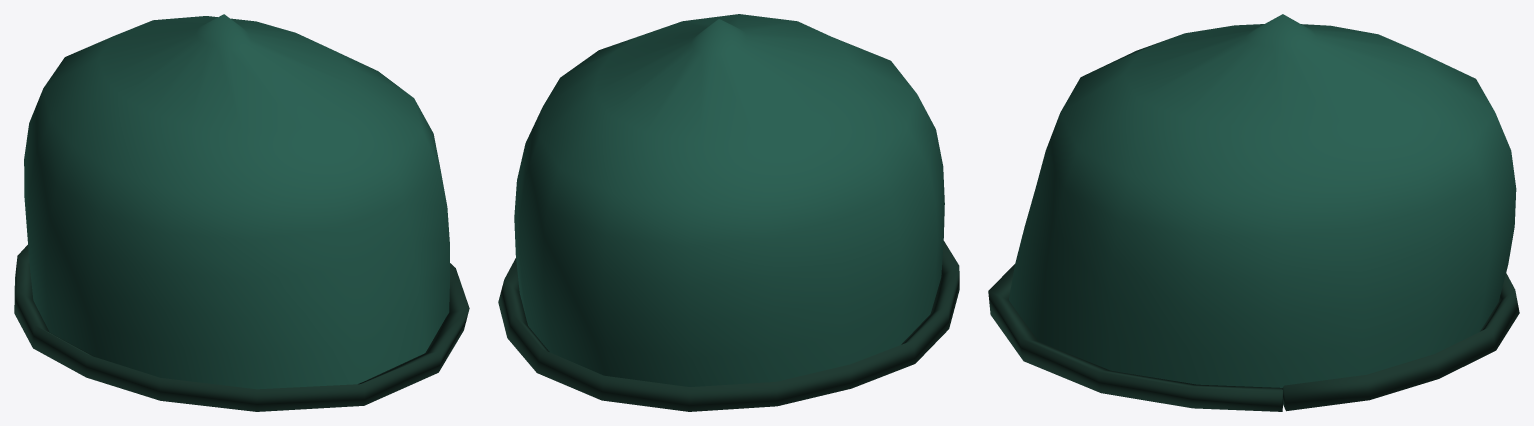
The model's file is vortex_armor_head.glb.
3 views of the same model, side by side, from view 1: azimuth 30°, elevation 25°; view 2: azimuth 150°, elevation 25°; view 3: azimuth 270°, elevation 25° (orthographic). The views are drawn at different scales.
Parts seen in each view (by area): view 1: vortex_armor_head; view 2: vortex_armor_head; view 3: vortex_armor_head.
Boxes of the visible parts, box(x1,y1,x2,y2) form: vortex_armor_head: box(14, 14, 469, 411); vortex_armor_head: box(498, 14, 959, 411); vortex_armor_head: box(988, 14, 1519, 411).
Bounding box in the file's own units: 0.2443 × 0.1754 × 0.2799.
